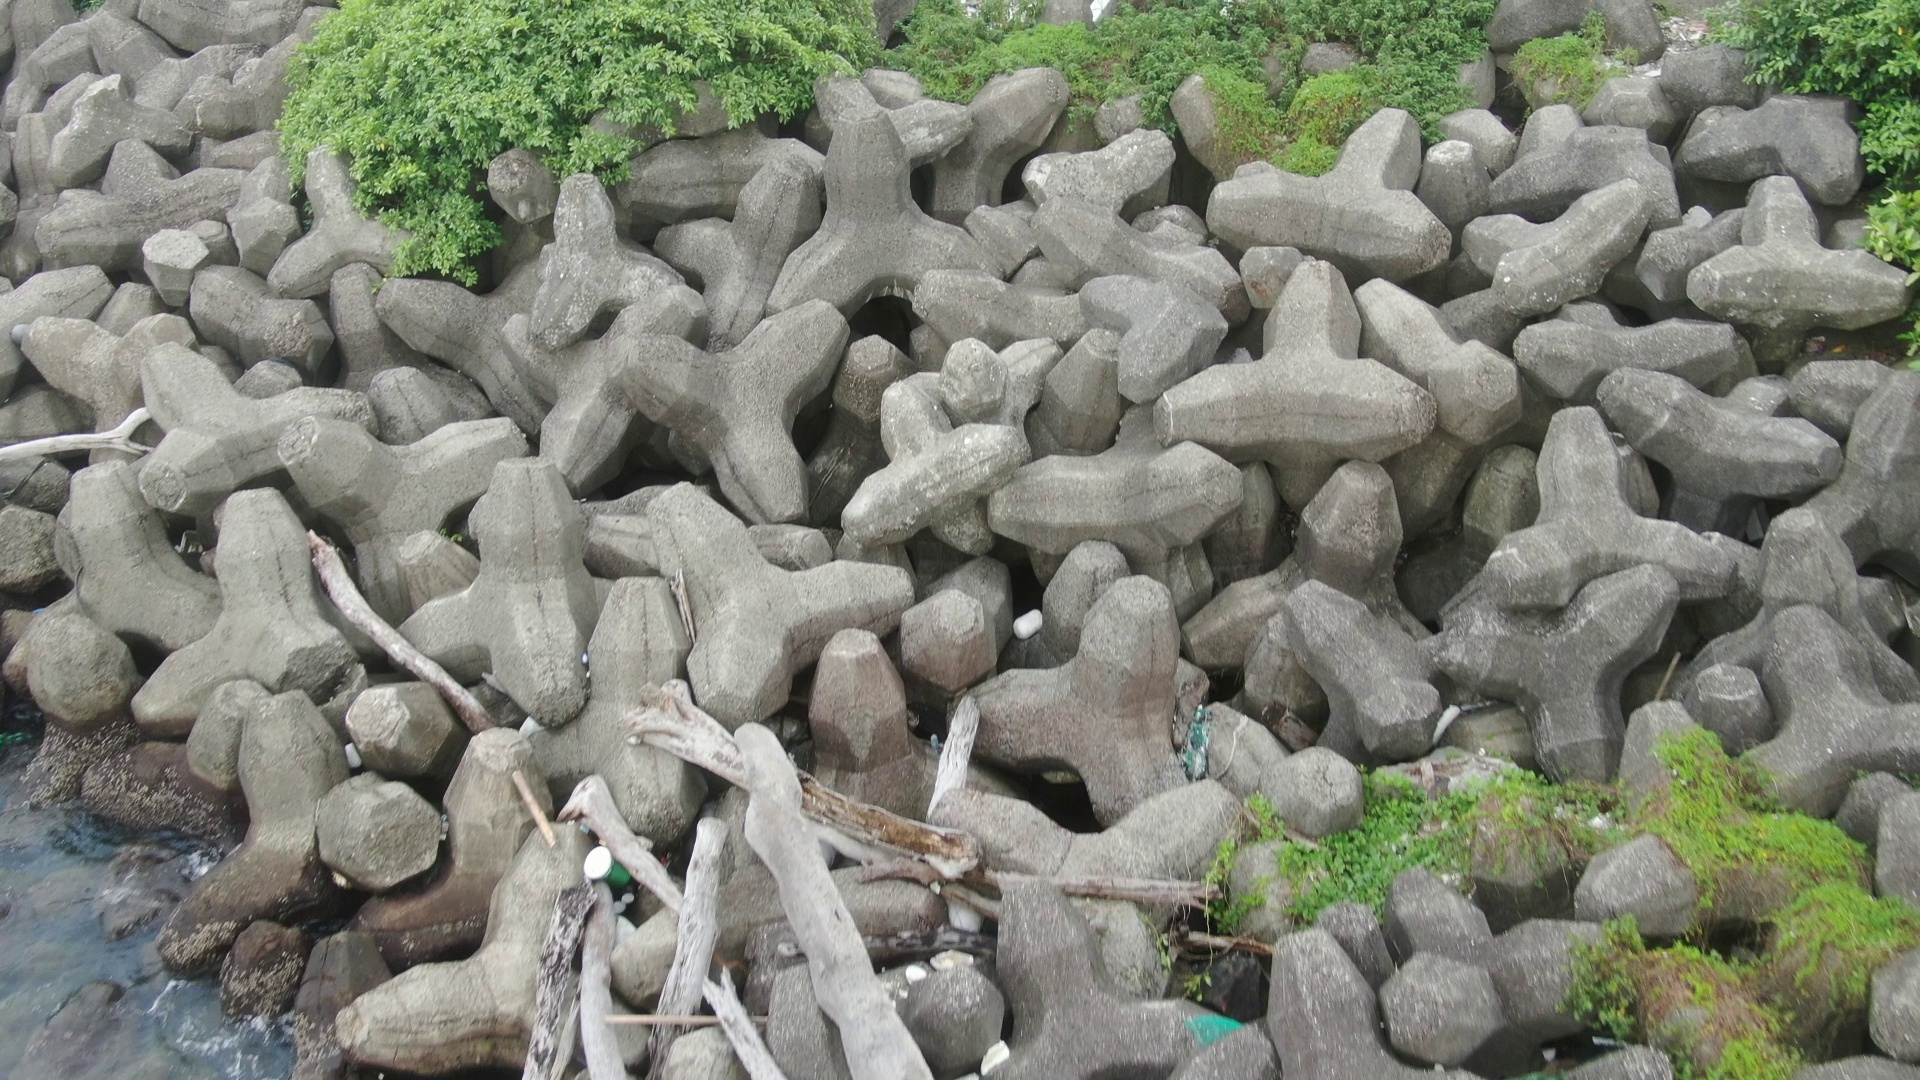garbage: (580, 837, 636, 895), (1009, 603, 1036, 640)
